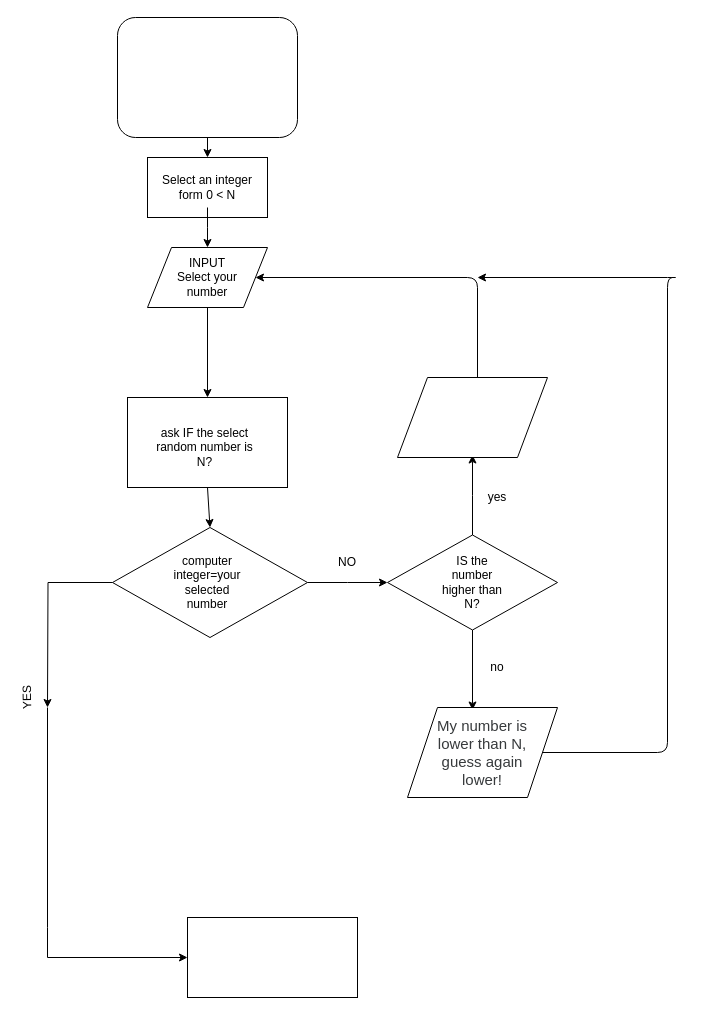
Some shapes in this 703 by 1015 pixel diagram are drawn without their labels. The shapes that lost their labels are listed below. From the top down, each one's centre as x and y in pixels, then its label:
pixel 207 77: Start
pixel 472 417: My number is higher than N, guess again higher!
pixel 272 957: OUTPUT: You are correct - the random number is N
